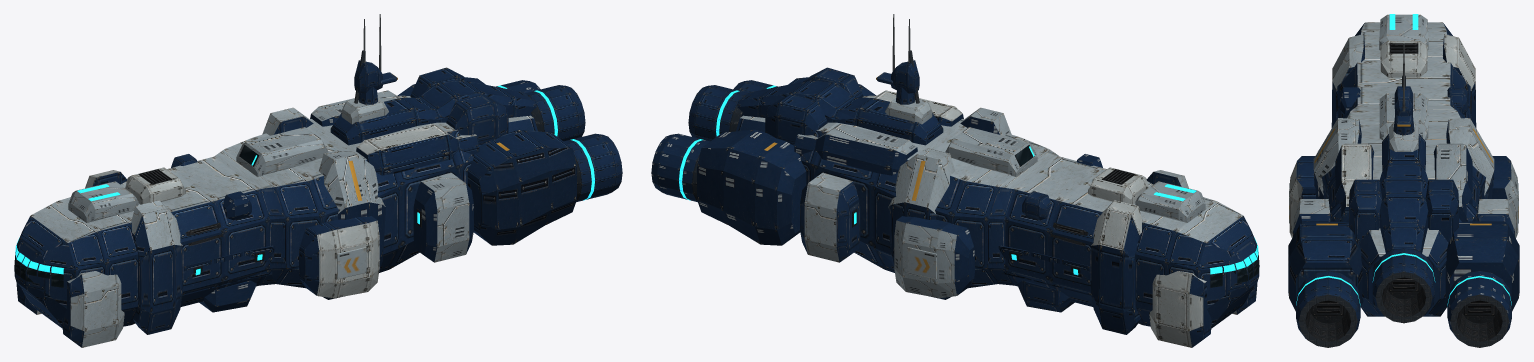
The model's file is concord-frigate.glb.
3 views of the same model, side by side, from view 1: azimuth 30°, elevation 25°; view 2: azimuth 150°, elevation 25°; view 3: azimuth 270°, elevation 25° (orthographic). The views are drawn at different scales.
Parts seen in each view (by area): view 1: Concord_Frigate_Rebuilt.001; view 2: Concord_Frigate_Rebuilt.001; view 3: Concord_Frigate_Rebuilt.001.
Boxes of the visible parts, x1,y1,x2,y2 form: Concord_Frigate_Rebuilt.001: [14, 14, 622, 347]; Concord_Frigate_Rebuilt.001: [651, 14, 1259, 347]; Concord_Frigate_Rebuilt.001: [1288, 14, 1519, 347].
Size of the model in its own units: 1.89 by 0.7794 by 0.6625.
Materials: 1 (1 with a texture image).
